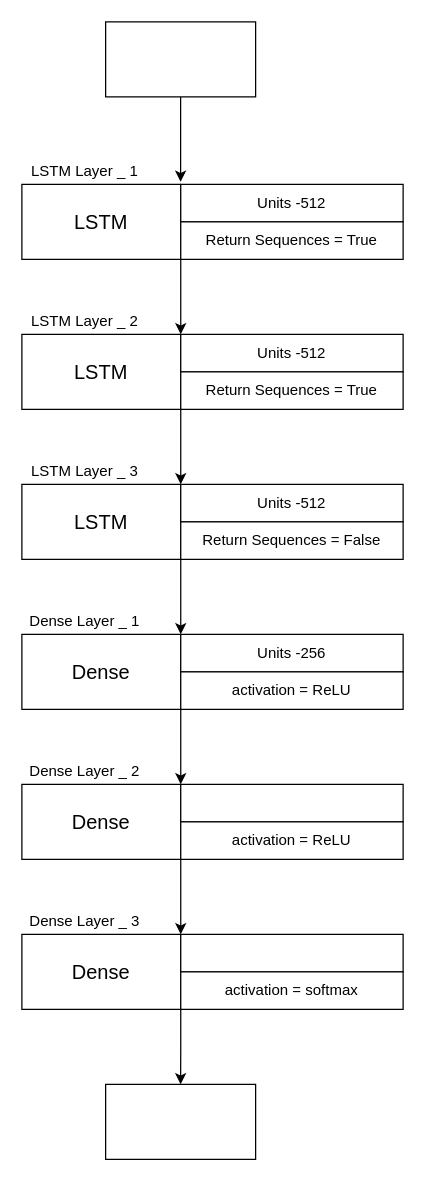
Some shapes in this 425 by 1181 pixel diagram are drawn without their labels. The centre of each missing label's shape, as x and y in pixels:
"Input" belongs at point 180,59.
"Output" belongs at point 180,1121.
"Units -128" belongs at point 291,802.
"Units -based on vocab" belongs at point 291,952.
